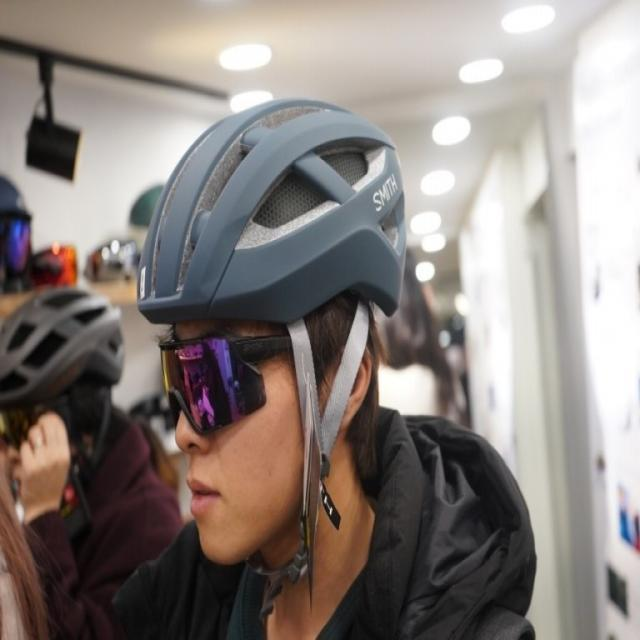Helmet: (133, 95, 409, 572)
